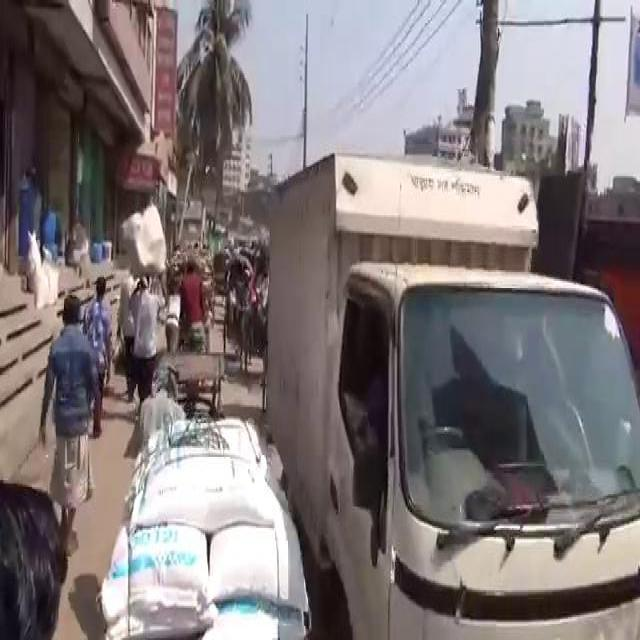vehicle: (258, 136, 638, 638), (157, 252, 226, 412), (223, 242, 258, 379)
